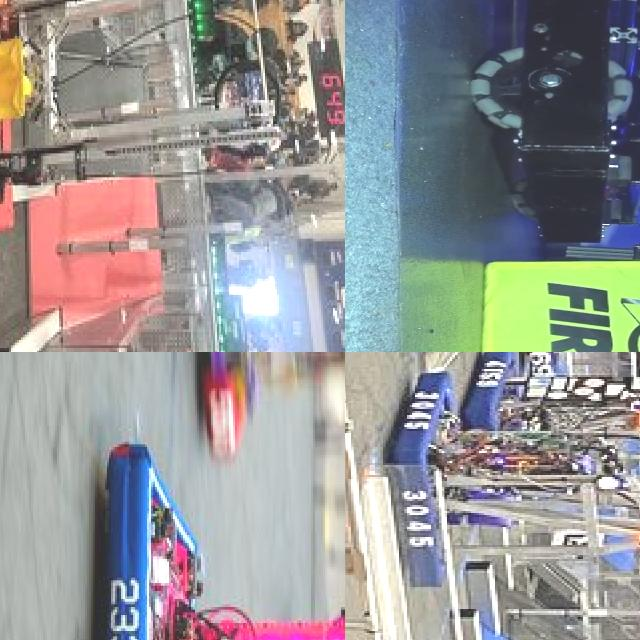FRC-Robots: (0, 0, 300, 329), (78, 409, 345, 640), (371, 403, 640, 619), (450, 0, 640, 255), (467, 352, 640, 472), (192, 352, 345, 477)
